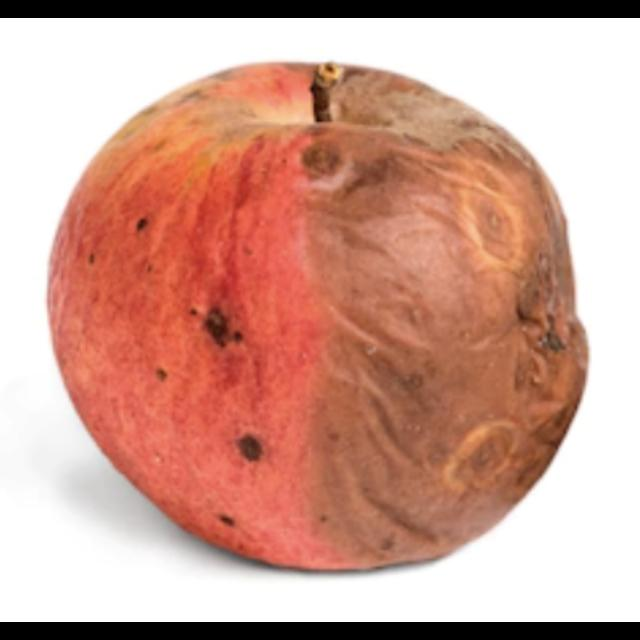Apel Tidak Segar: (38, 52, 596, 584)
